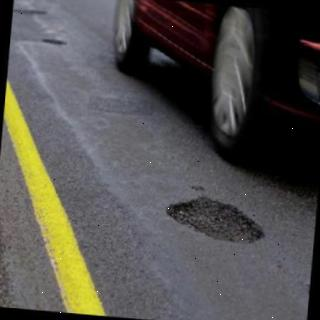pothole: (166, 198, 264, 245)
